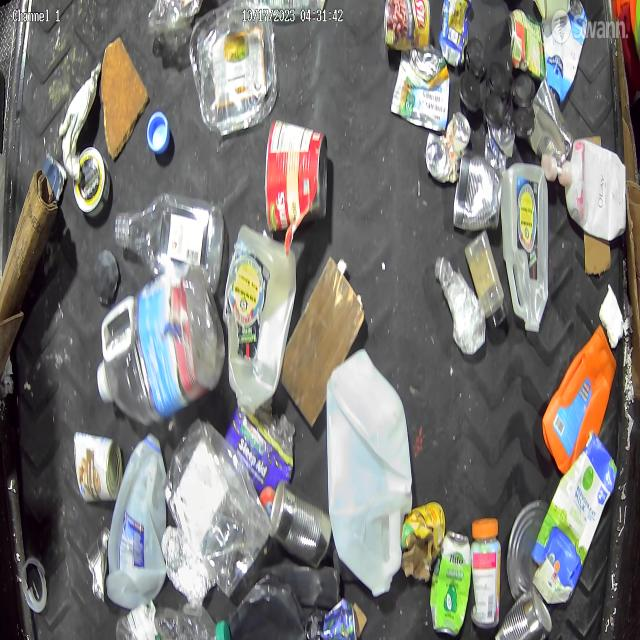can: (265, 119, 327, 231), (268, 480, 332, 568), (391, 45, 450, 133), (430, 529, 471, 636), (506, 499, 550, 598), (452, 153, 504, 233), (528, 78, 574, 165), (74, 434, 121, 504), (491, 588, 554, 640), (425, 112, 471, 183), (384, 0, 431, 51)
milk_jug: (326, 348, 412, 596), (226, 222, 300, 412), (108, 435, 168, 608), (501, 162, 548, 332)
non_white_jug: (543, 326, 615, 477)
plastic_bottle: (97, 265, 226, 425), (115, 192, 224, 294), (435, 254, 486, 355), (115, 604, 231, 639)
